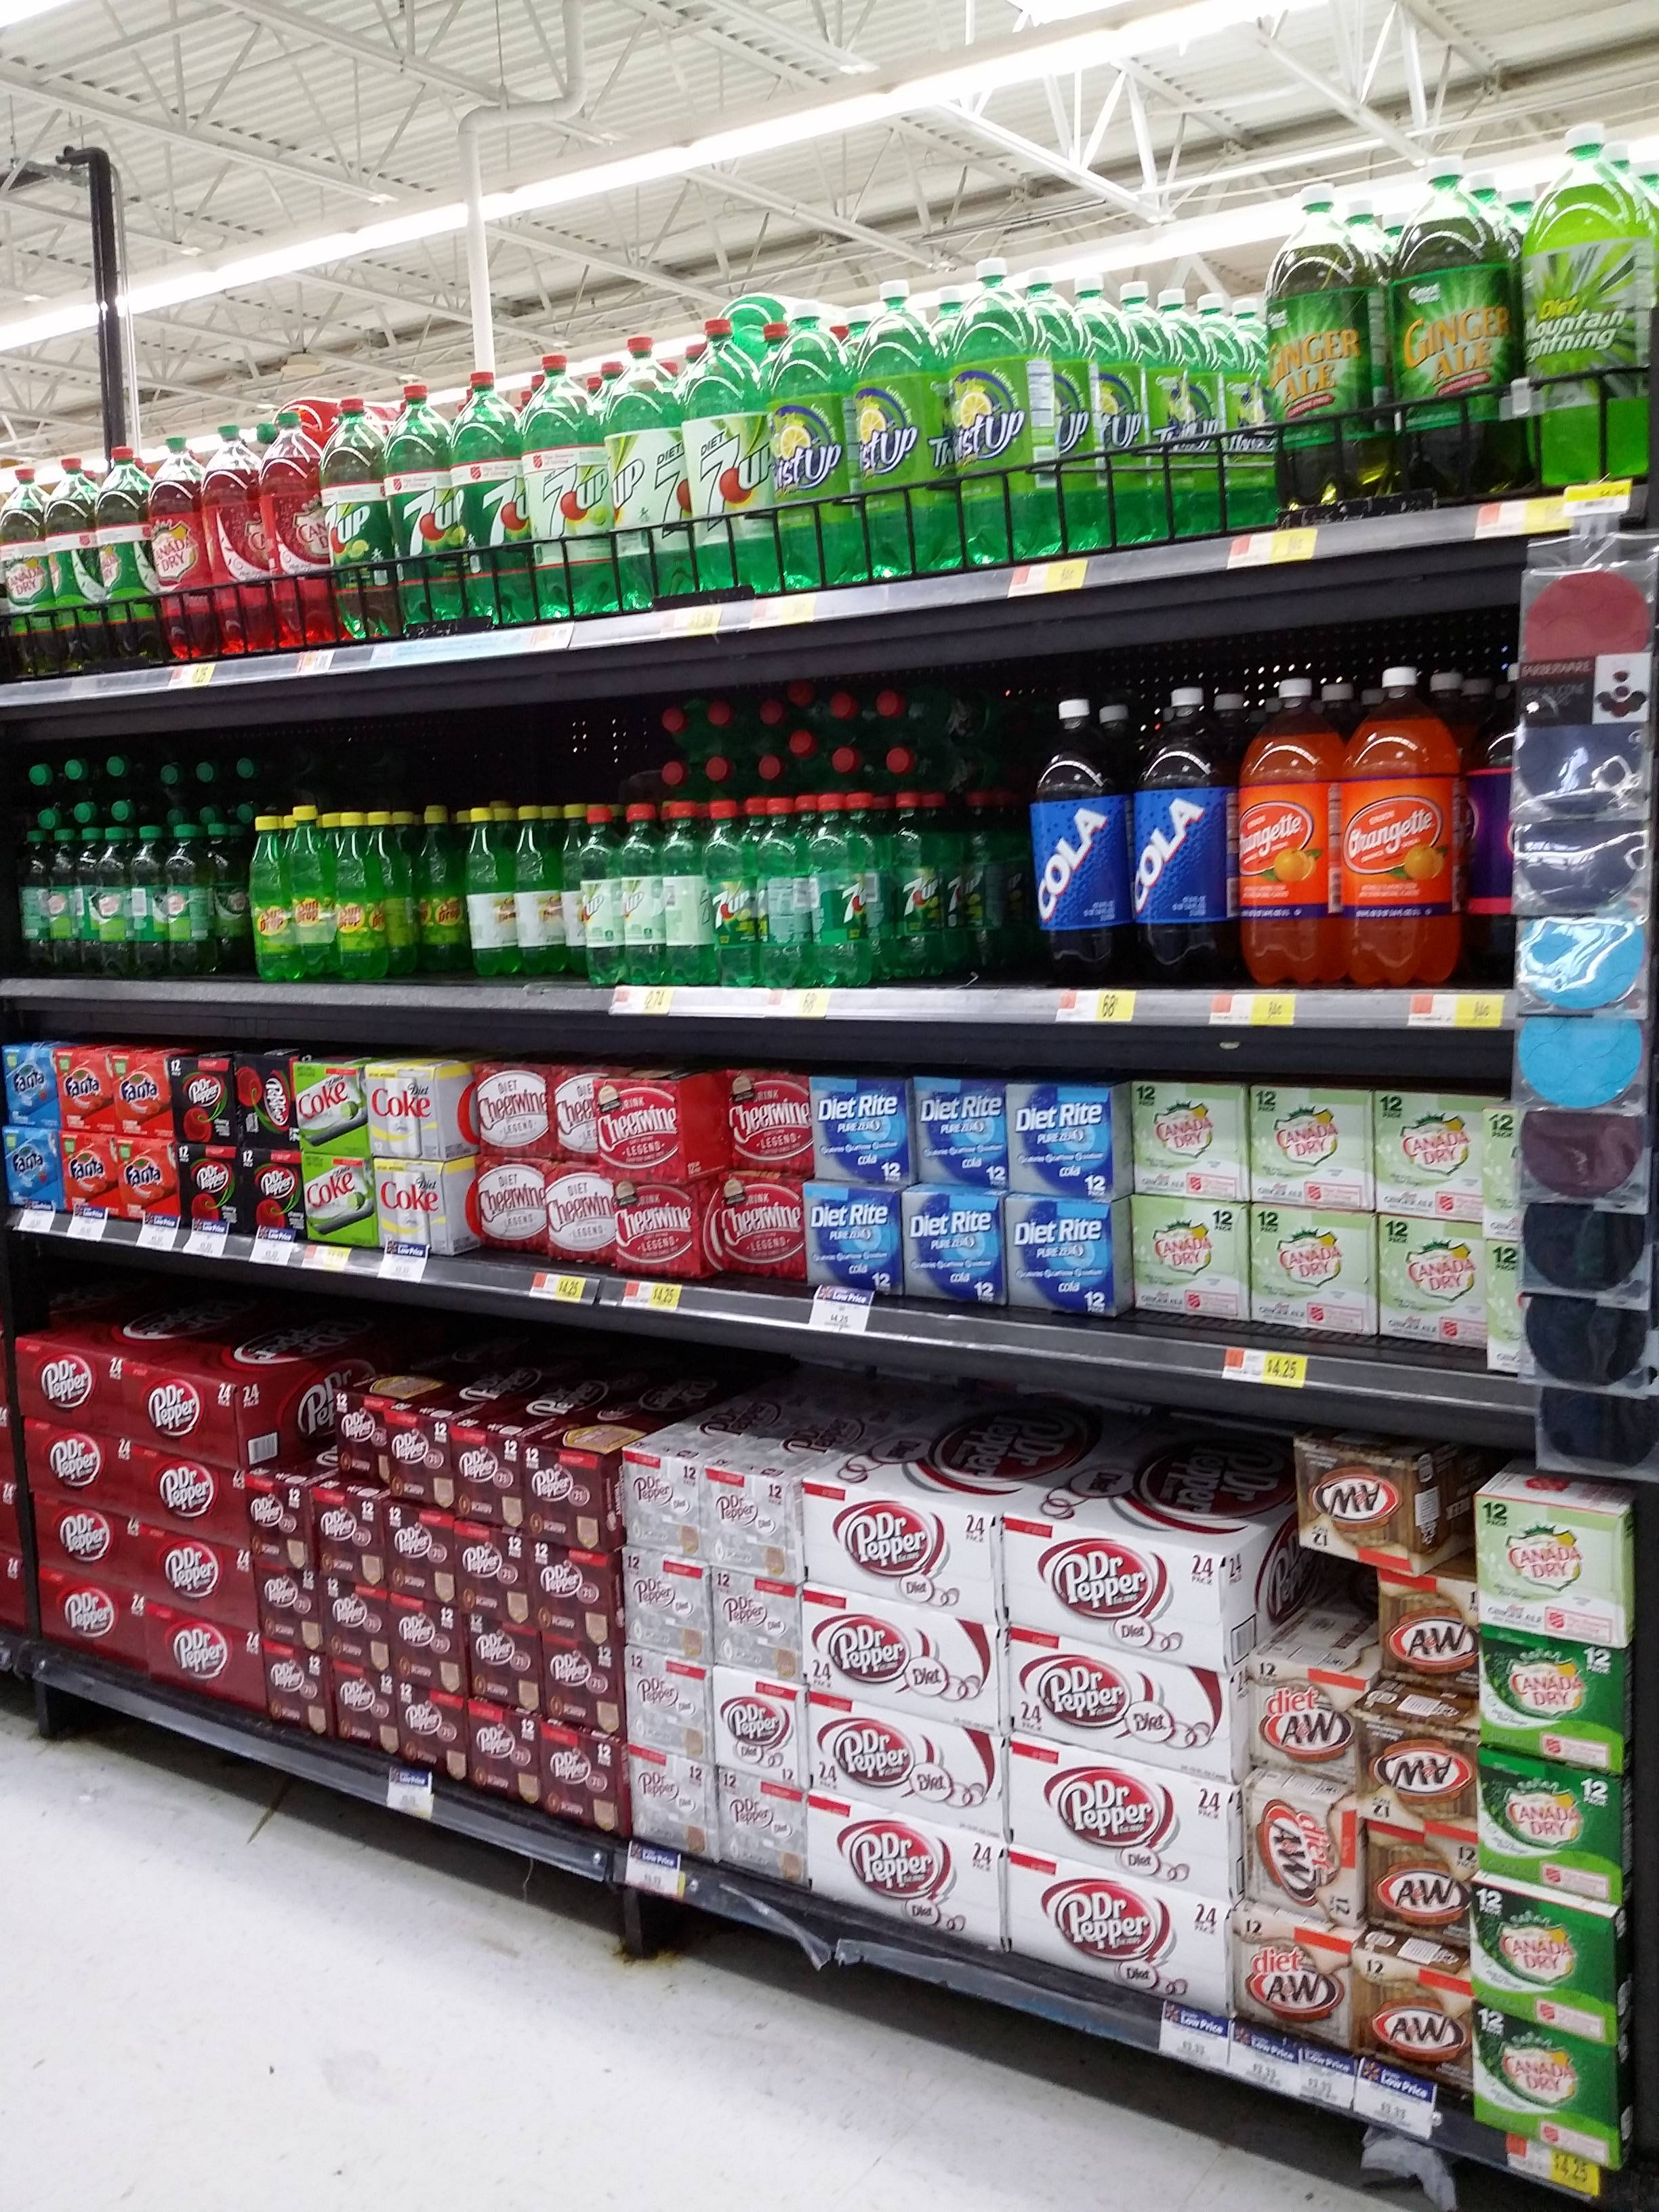Out-of-stock: (1016, 279, 1277, 573), (863, 796, 1028, 993), (354, 813, 469, 982)
